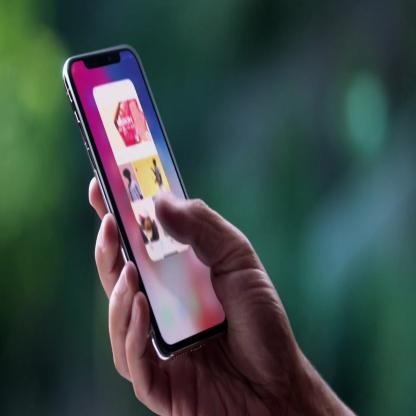smartphone: (62, 43, 229, 362)
